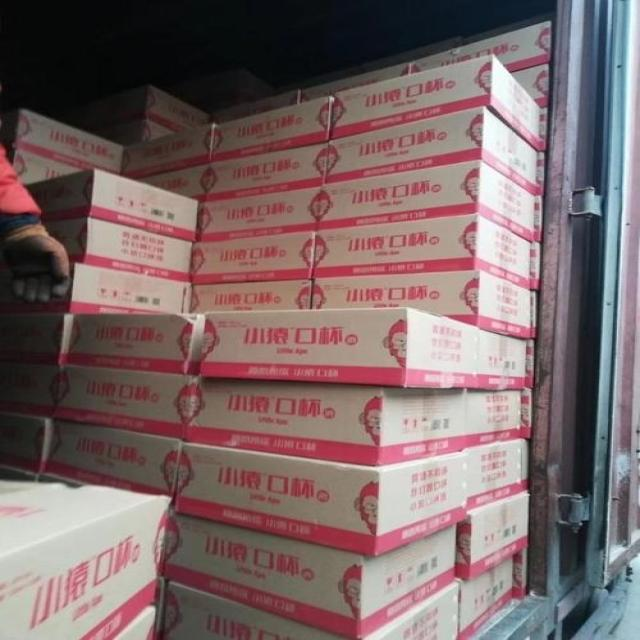box: (157, 506, 457, 640), (174, 440, 468, 556), (1, 480, 172, 640), (186, 378, 466, 467), (200, 308, 480, 389), (328, 55, 541, 151), (323, 107, 539, 195), (320, 161, 535, 242), (312, 216, 531, 289), (312, 270, 539, 340), (23, 167, 202, 241), (152, 579, 353, 640), (42, 418, 186, 498), (51, 364, 198, 440), (46, 218, 197, 281), (67, 312, 202, 376), (0, 107, 124, 174), (211, 95, 334, 160), (411, 20, 556, 73), (205, 141, 328, 201), (197, 185, 325, 242), (188, 230, 316, 282), (457, 491, 530, 581), (353, 579, 460, 640), (70, 262, 193, 314), (81, 86, 211, 131), (120, 123, 214, 179), (458, 555, 516, 640), (301, 60, 411, 104), (462, 439, 529, 510), (163, 71, 274, 113), (463, 387, 532, 450), (189, 279, 314, 313), (474, 327, 535, 391), (1, 314, 74, 367), (1, 358, 64, 419), (360, 36, 463, 73), (1, 145, 97, 184), (38, 472, 174, 498), (1, 412, 54, 474), (212, 88, 302, 123), (465, 12, 557, 46), (273, 64, 364, 97), (138, 161, 211, 200), (81, 117, 175, 146), (511, 61, 554, 107), (113, 606, 155, 640), (512, 548, 529, 599), (0, 466, 41, 482), (539, 106, 552, 151), (534, 193, 544, 242), (531, 242, 541, 291), (535, 150, 545, 196)
